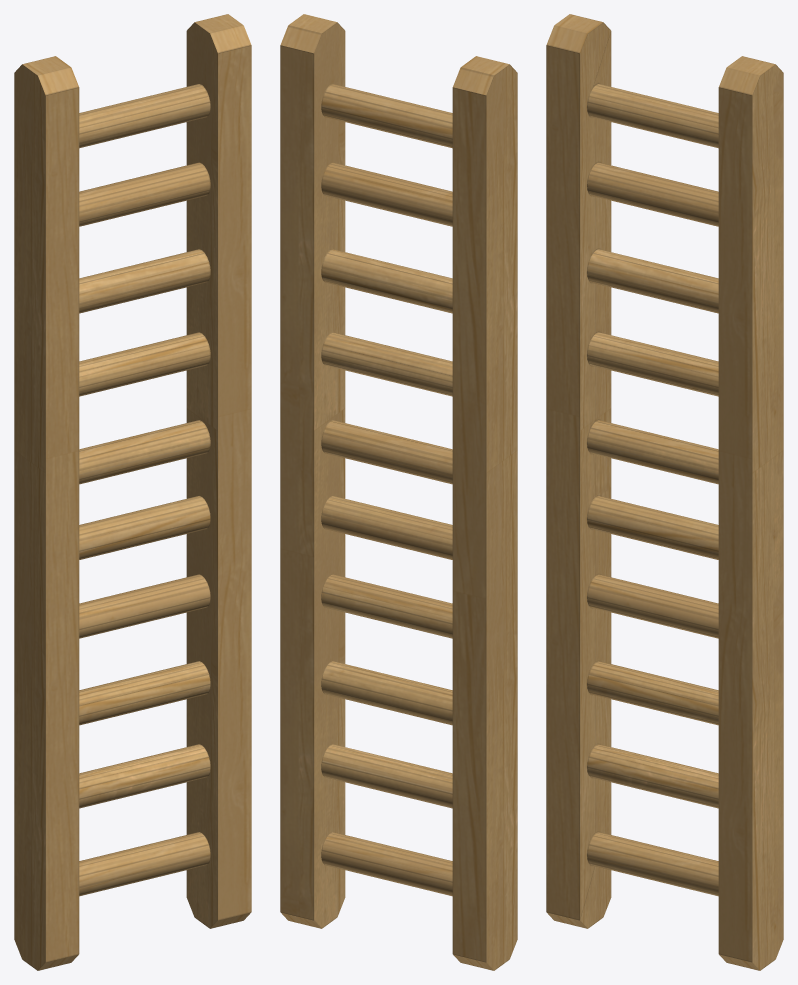
File: ladder.fbx
The picture shows the model from 3 angles, left to right: view 1: azimuth 30°, elevation 25°; view 2: azimuth 150°, elevation 25°; view 3: azimuth 330°, elevation 25°; orthographic projection.
Visible parts, largest first — view 1: pCylinder11; view 2: pCylinder11; view 3: pCylinder11.
Part boxes in pixels (x1,y1,x2,y2): pCylinder11: (14, 14, 251, 970); pCylinder11: (280, 14, 517, 970); pCylinder11: (546, 14, 783, 970).
Bounding box in the file's own units: 6.12 × 25.43 × 1.6.
1 material, 1 textured.
